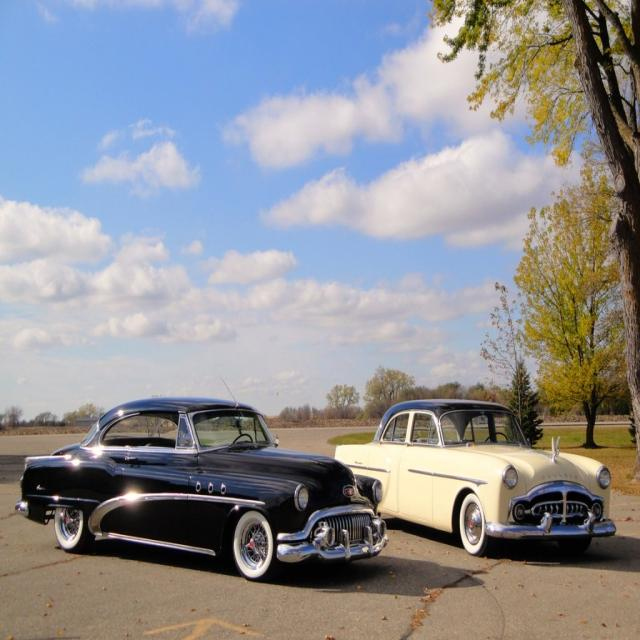car: (13, 372, 388, 577)
